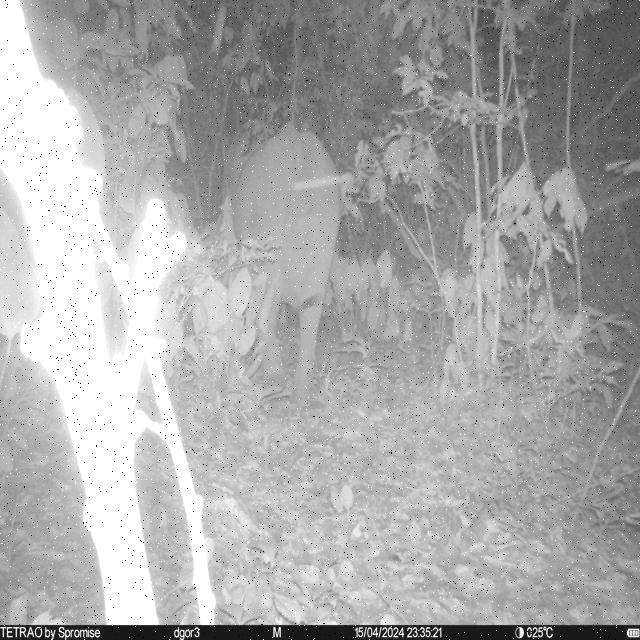elephant: (230, 120, 346, 403)
